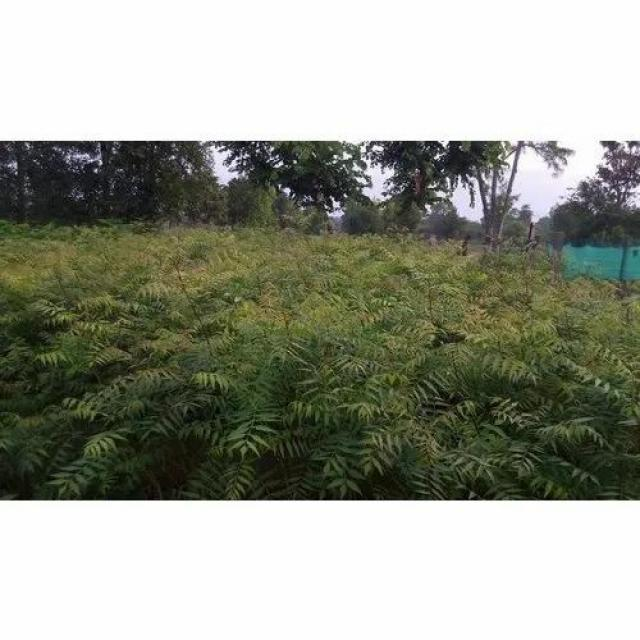Medicinal-Neem: (344, 324, 608, 486), (123, 349, 333, 490), (10, 307, 119, 482)
